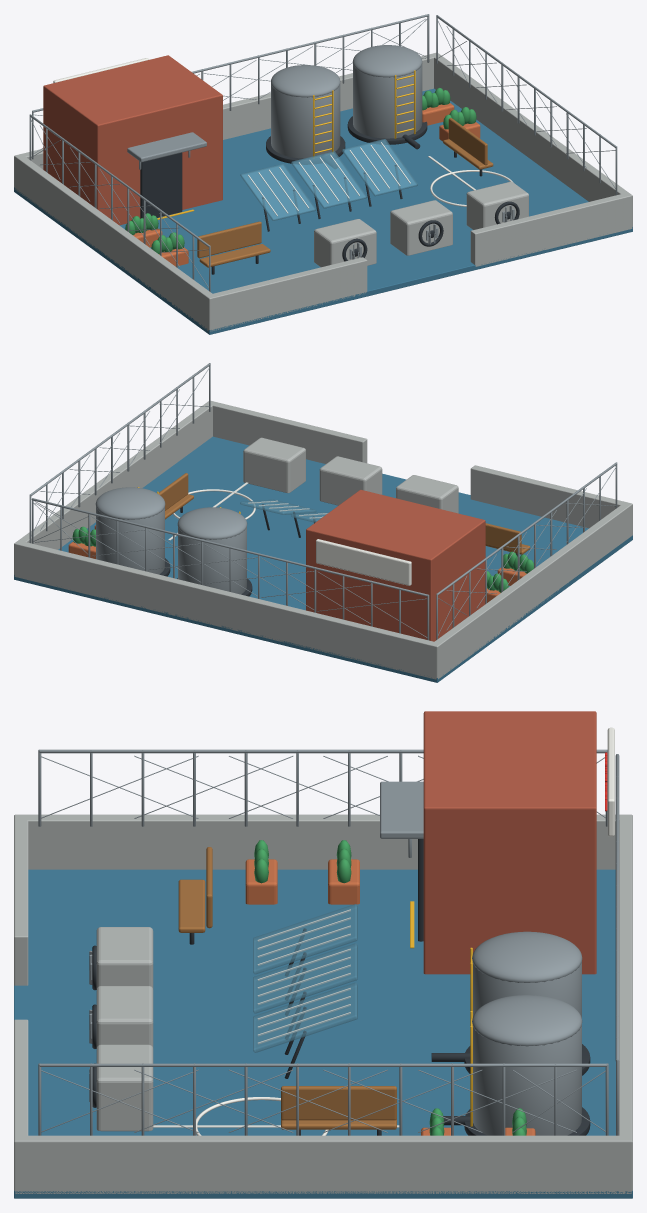
The model's file is korean_school_rooftop.glb.
The picture shows the model from 3 angles, top to bottom: view 1: azimuth 30°, elevation 25°; view 2: azimuth 150°, elevation 25°; view 3: azimuth 270°, elevation 25°; orthographic projection. The views are drawn at different scales.
Parts seen in each view (by area): view 1: SchoolRooftop_Deck, Stairwell_Block, SchoolRooftop_ParapetLeft, SchoolRooftop_ParapetRight, SchoolRooftop_ParapetFrontRight, SchoolRooftop_ParapetFrontLeft, WaterTank_2_Body, WaterTank_1_Body, SchoolRooftop_ParapetBack, HVAC_2_Body, SolarPanel_2, SolarPanel_3 (+16 smaller); view 2: SchoolRooftop_Deck, Stairwell_Block, SchoolRooftop_ParapetBack, SchoolRooftop_ParapetLeft, SchoolRooftop_ParapetRight, SchoolRooftop_ParapetFrontLeft, SchoolRooftop_ParapetFrontRight, WaterTank_2_Body, WaterTank_1_Body, HVAC_3_Body, SchoolName_Backboard, HVAC_2_Body (+9 smaller); view 3: SchoolRooftop_Deck, Stairwell_Block, SchoolRooftop_ParapetRight, SchoolRooftop_ParapetLeft, WaterTank_2_Body, SchoolRooftop_ParapetBack, HVAC_3_Body, WaterTank_2_Top, WaterTank_1_Top, SolarPanel_2, SolarPanel_1, SolarPanel_3 (+15 smaller).
Boxes of the visible parts, x1,y1,x2,y2 form: SchoolRooftop_Deck: [14, 88, 632, 334]; Stairwell_Block: [43, 55, 222, 225]; SchoolRooftop_ParapetLeft: [14, 155, 215, 331]; SchoolRooftop_ParapetRight: [433, 53, 632, 230]; SchoolRooftop_ParapetFrontRight: [470, 193, 632, 266]; SchoolRooftop_ParapetFrontLeft: [205, 257, 367, 331]; WaterTank_2_Body: [353, 64, 422, 138]; WaterTank_1_Body: [271, 84, 340, 158]; SchoolRooftop_ParapetBack: [14, 53, 440, 190]; HVAC_2_Body: [390, 200, 452, 255]; SolarPanel_2: [291, 151, 367, 208]; SolarPanel_3: [342, 139, 417, 196]; SchoolRooftop_Deck: [14, 436, 632, 682]; Stairwell_Block: [306, 489, 485, 641]; SchoolRooftop_ParapetBack: [14, 541, 441, 679]; SchoolRooftop_ParapetLeft: [431, 502, 632, 679]; SchoolRooftop_ParapetRight: [14, 401, 213, 574]; SchoolRooftop_ParapetFrontLeft: [470, 465, 632, 534]; SchoolRooftop_ParapetFrontRight: [206, 401, 367, 463]; WaterTank_2_Body: [96, 507, 164, 574]; WaterTank_1_Body: [178, 527, 246, 594]; HVAC_3_Body: [243, 437, 305, 493]; SchoolName_Backboard: [316, 539, 411, 585]; HVAC_2_Body: [319, 456, 382, 505]; SchoolRooftop_Deck: [14, 869, 632, 1198]; Stairwell_Block: [423, 711, 596, 974]; SchoolRooftop_ParapetRight: [14, 1135, 632, 1193]; SchoolRooftop_ParapetLeft: [14, 814, 632, 869]; WaterTank_2_Body: [473, 1025, 581, 1135]; SchoolRooftop_ParapetBack: [618, 814, 632, 1191]; HVAC_3_Body: [96, 1044, 153, 1131]; WaterTank_2_Top: [472, 995, 582, 1046]; WaterTank_1_Top: [472, 931, 582, 982]; SolarPanel_2: [253, 943, 357, 1013]; SolarPanel_1: [253, 904, 357, 974]; SolarPanel_3: [253, 982, 357, 1052].
Bounding box in the file's own units: 15 × 3.75 × 12.
